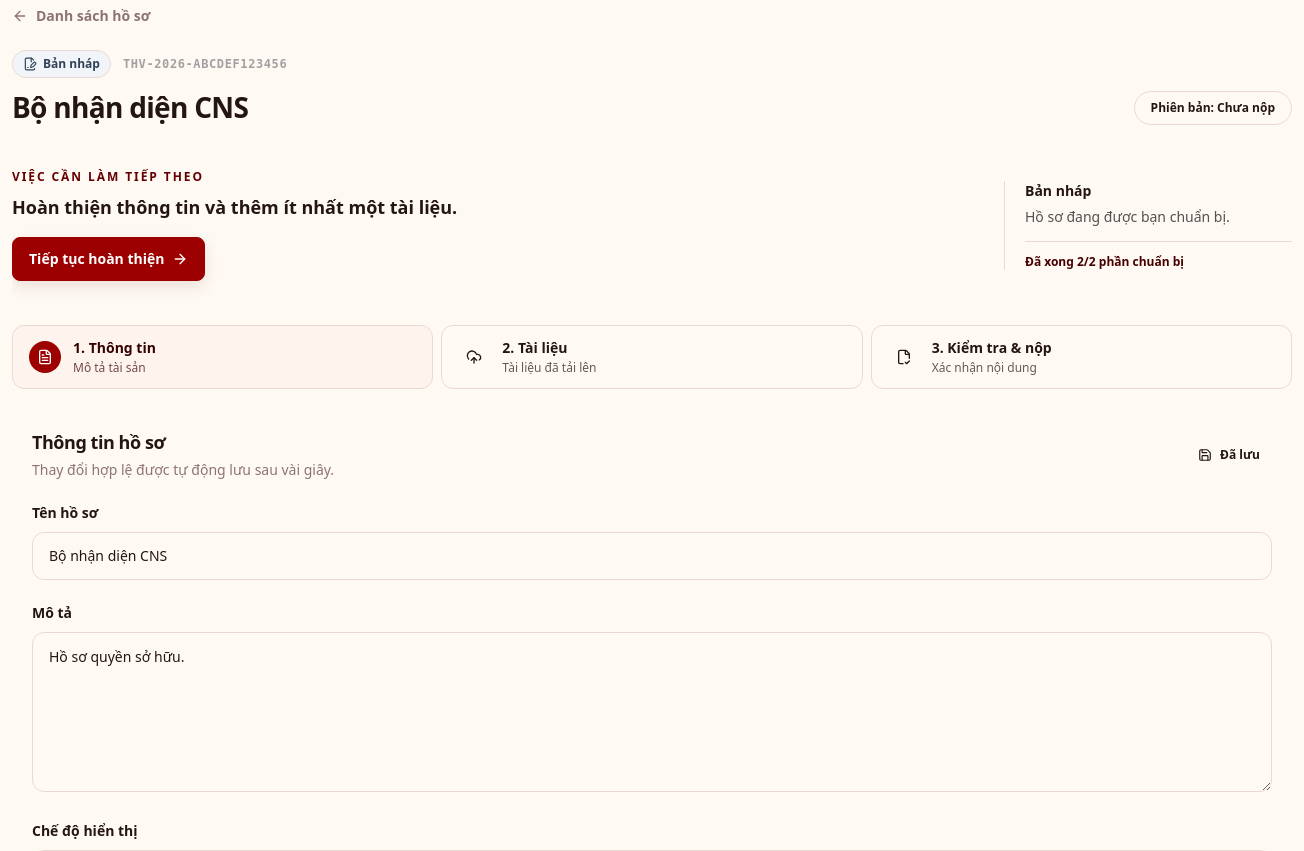
Test: DossierWorkspace › blocks submission while fee lookup fails and preserves the draft for retry
The image size is (1304, 851).
Expected: the heading "Bộ nhận diện CNS" is shown, [12,90,287,125]
Click the button "3. Kiểm tra & nộp Xác nhận nội dung".
click(999, 348)  # box [871,325,1292,389]
(page scrolled)
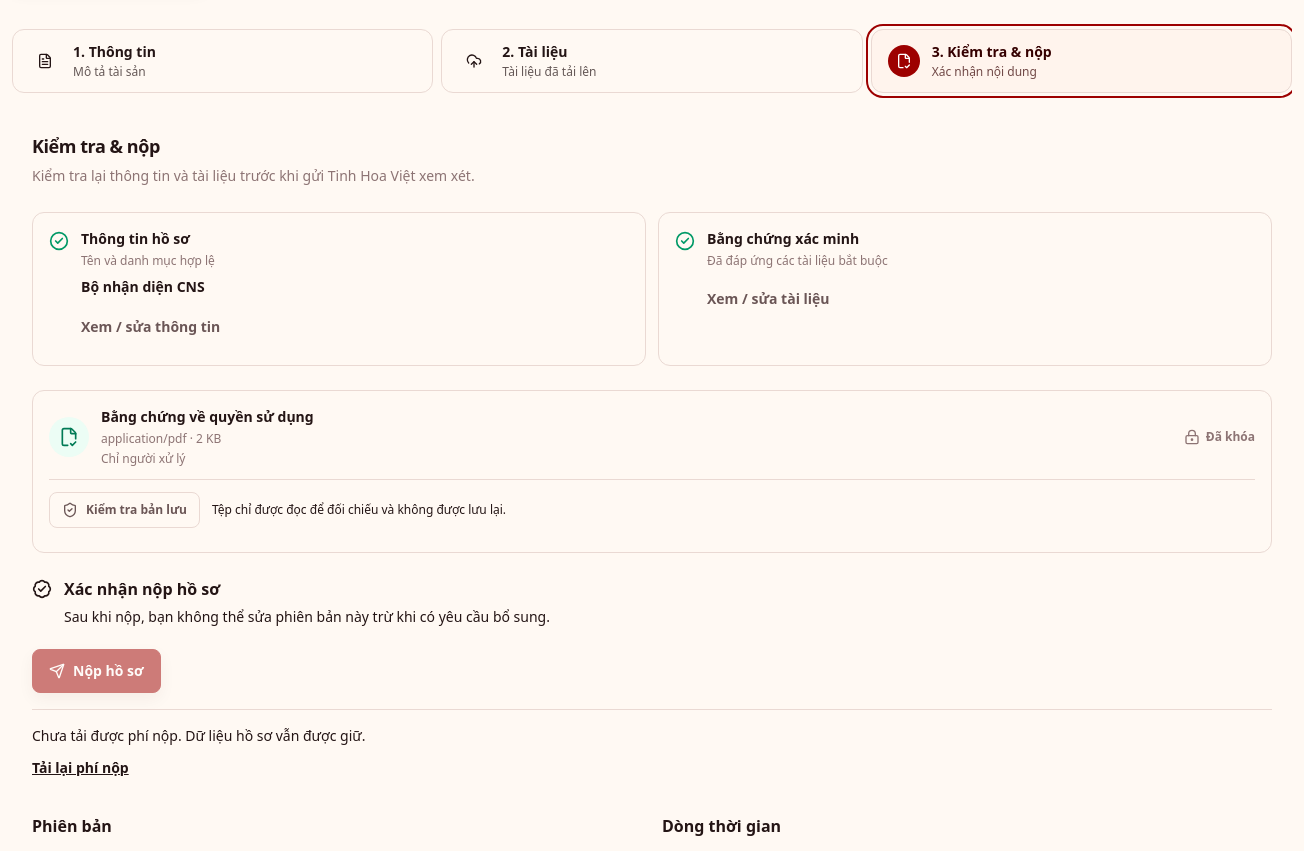
Expected: the text "Chưa tải được phí nộp. Dữ liệu hồ sơ vẫn được giữ." is shown, [32,726,366,745]
Expected: the button "Nộp hồ sơ" is disabled, [32,649,160,693]
Click the button "Tải lại phí nộp".
click(80, 768)  # box [32,746,129,790]
(page scrolled)
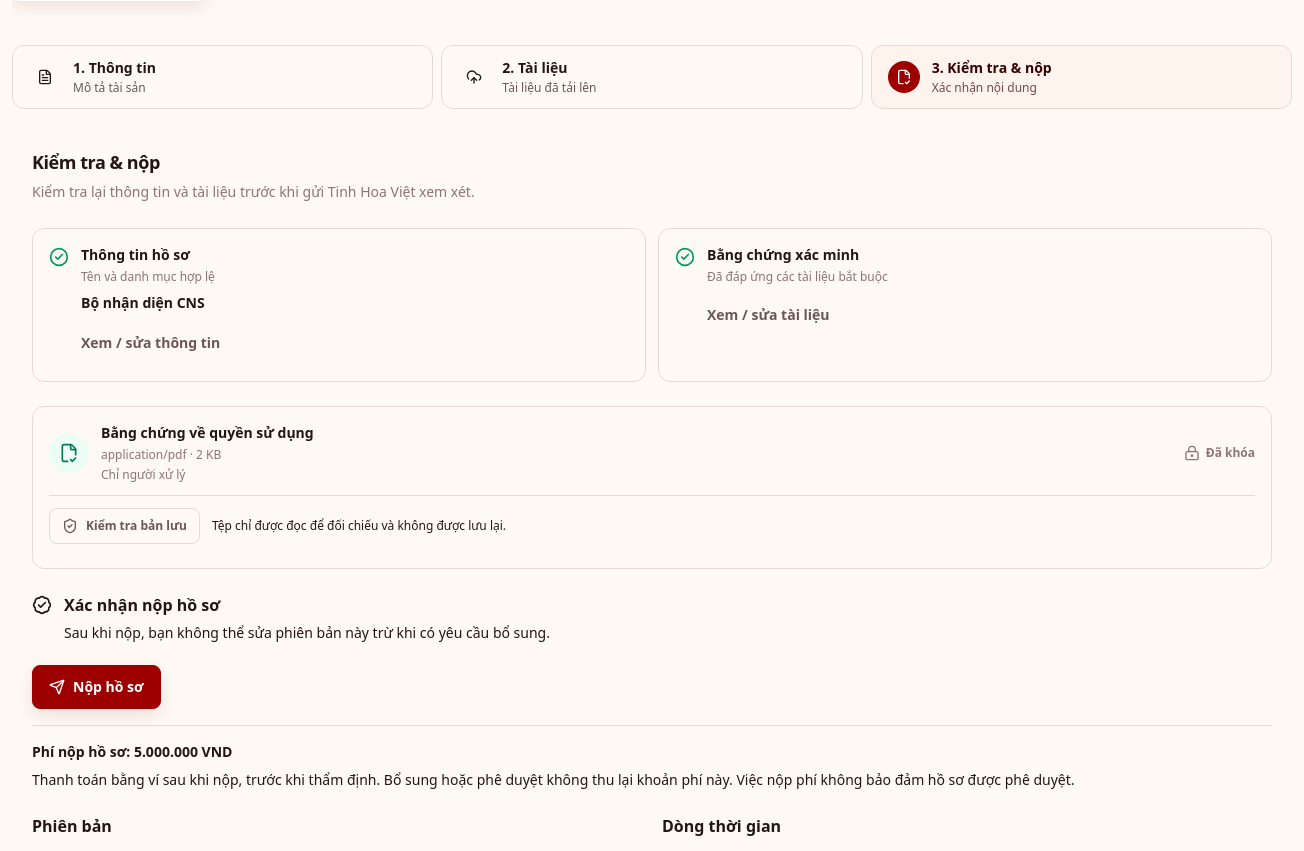
Expected: the heading "Bằng chứng về quyền sử dụng" is shown, [101,423,314,442]
Expected: the text "Phí nộp hồ sơ: 5.000.000 VND" is shown, [32,742,232,761]
Expected: the button "Nộp hồ sơ" is enabled, [32,665,160,709]
